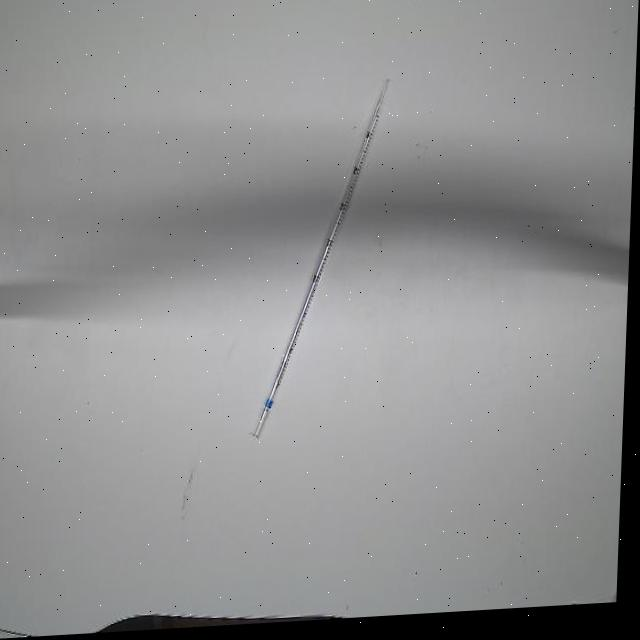Serelogical Pipet 5 mL: (254, 79, 394, 445)
